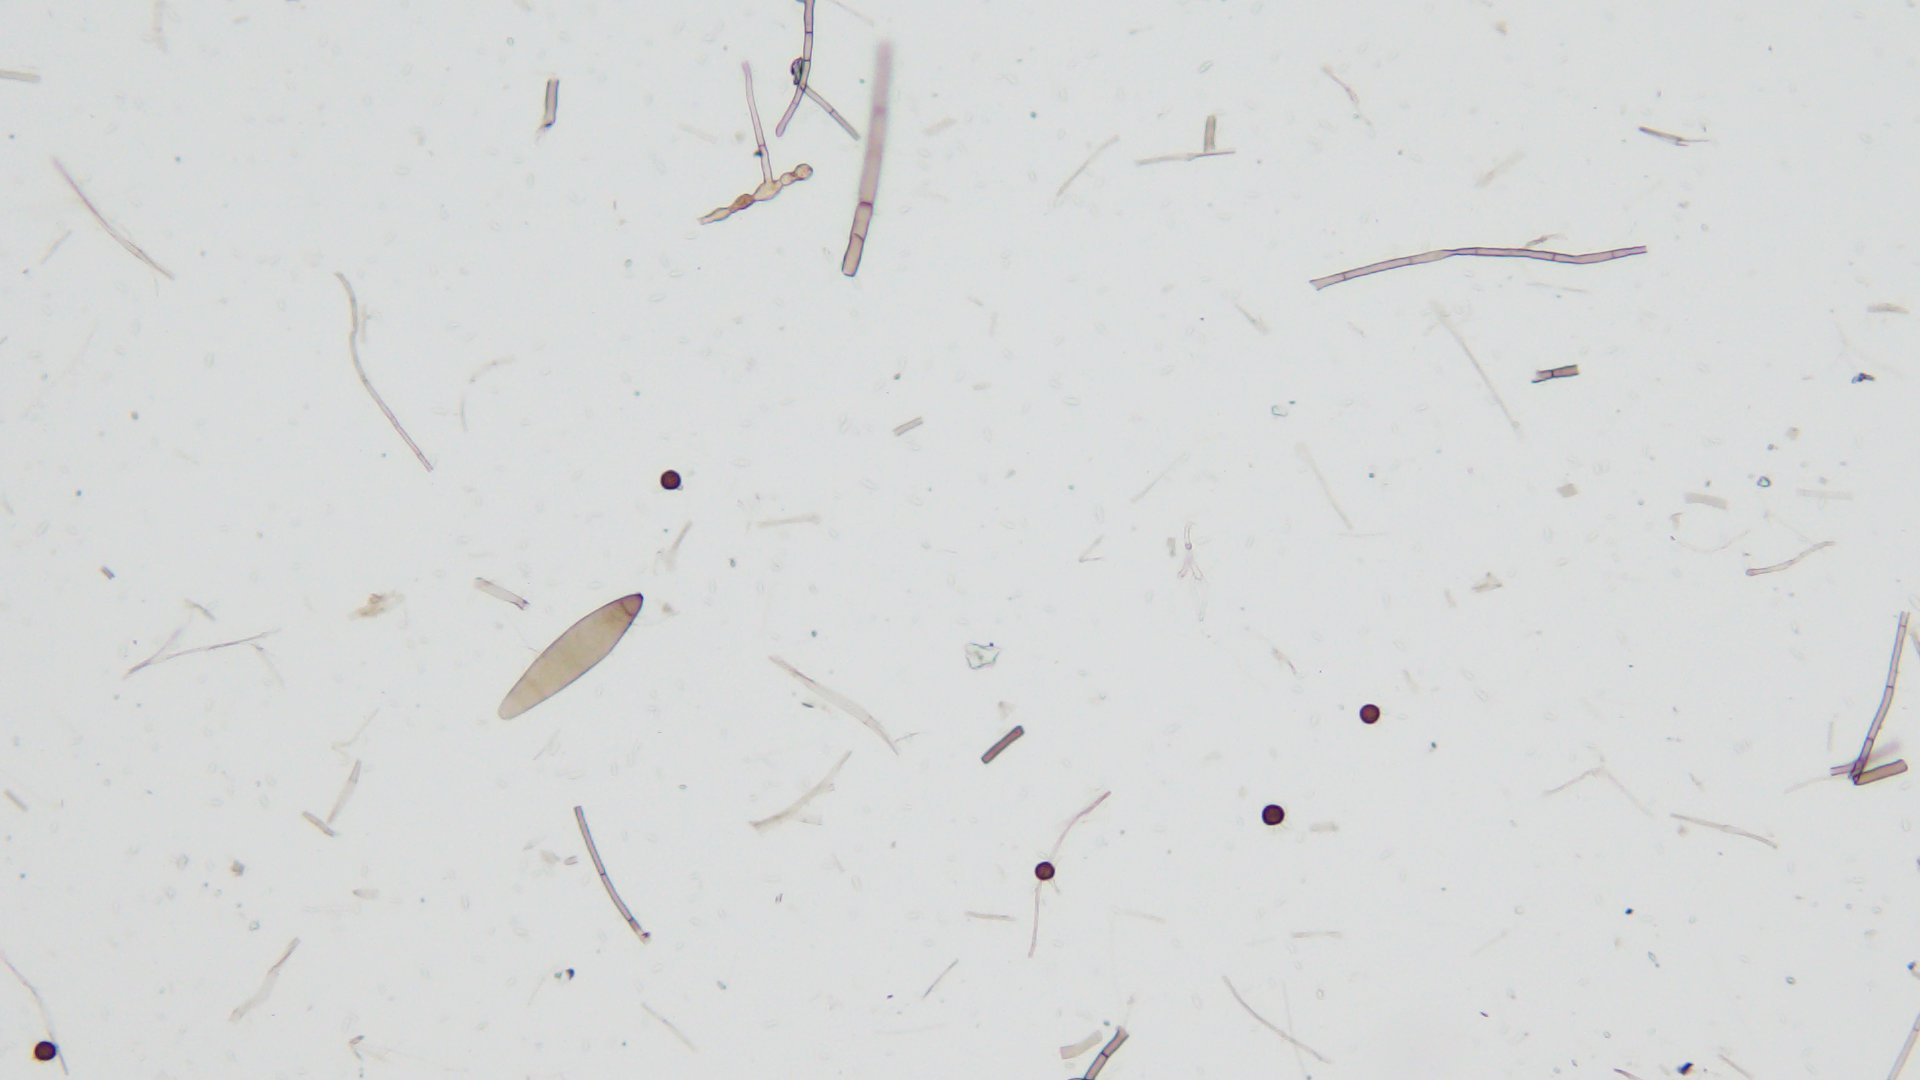dbb_spore: (496, 593, 644, 727)
shs_spore: (1261, 803, 1286, 824), (1033, 860, 1058, 880), (33, 1040, 55, 1062), (1360, 703, 1381, 724), (661, 469, 680, 491)
